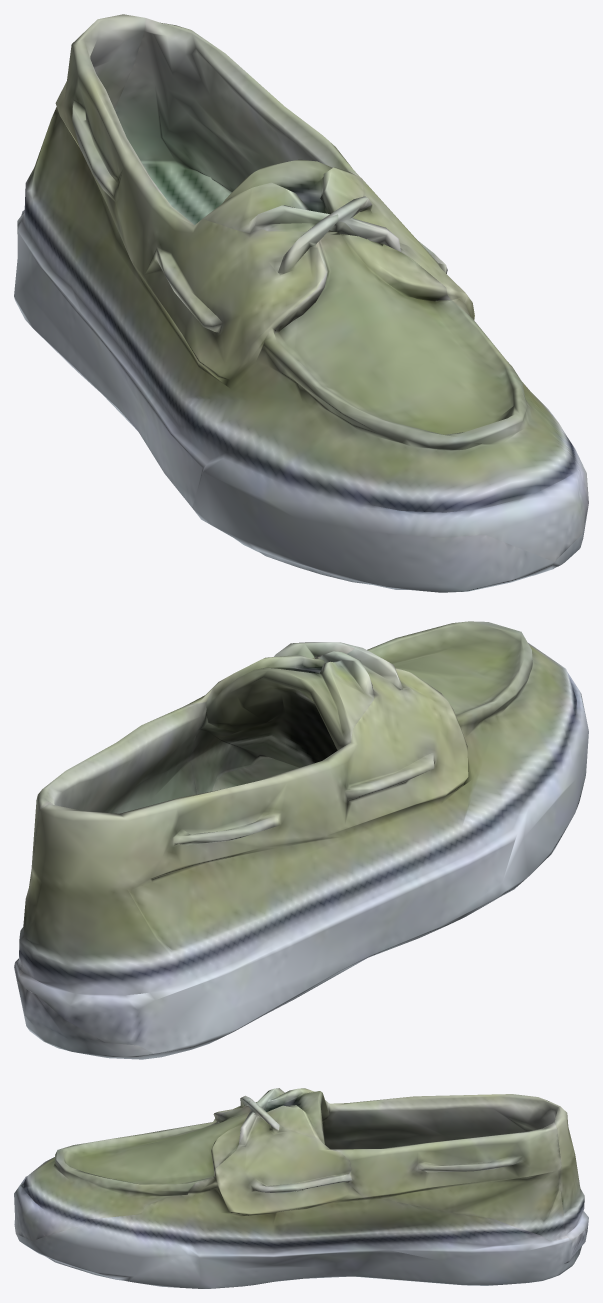
Rendered from gso_mens_bahama_in_khaki_oyster_xu2jeqywhqj.glb.
3 views of the same model, one above another, from view 1: azimuth 30°, elevation 25°; view 2: azimuth 150°, elevation 25°; view 3: azimuth 270°, elevation 25° (orthographic). The views are drawn at different scales.
Parts seen in each view (by area): view 1: z-up-to-y-up; view 2: z-up-to-y-up; view 3: z-up-to-y-up.
Part boxes in pixels (x1,y1,x2,y2): z-up-to-y-up: (14, 14, 588, 592); z-up-to-y-up: (14, 621, 588, 1059); z-up-to-y-up: (14, 1088, 588, 1288).
Size of the model in its own units: 0.1033 by 0.0889 by 0.2861.
Materials: 1 (1 with a texture image).
